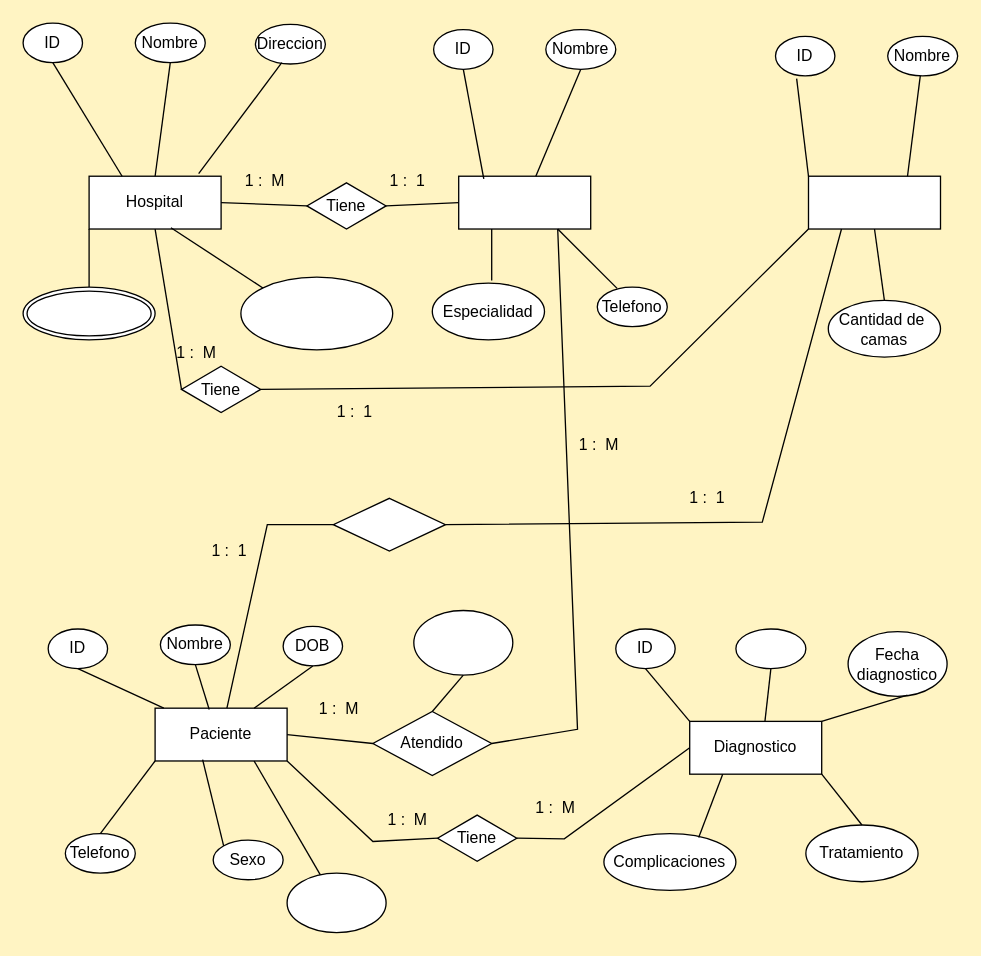
The diagram is 981 pixels wide and 956 high, and some of its shapes have lost their labels. The shapes that lost their labels are listed below. From the top down, each one's centre as x and y in pixels, then its label:
At point 524,202: "Medico".
At point 873,202: "Sala".
At point 88,313: "Teléfonos".
At point 316,313: "Cantidad Cuartos".
At point 389,524: "Internar".
At point 462,642: "Fecha Atencion".
At point 770,648: "Tipo".
At point 336,902: "Nro Cuarto".
